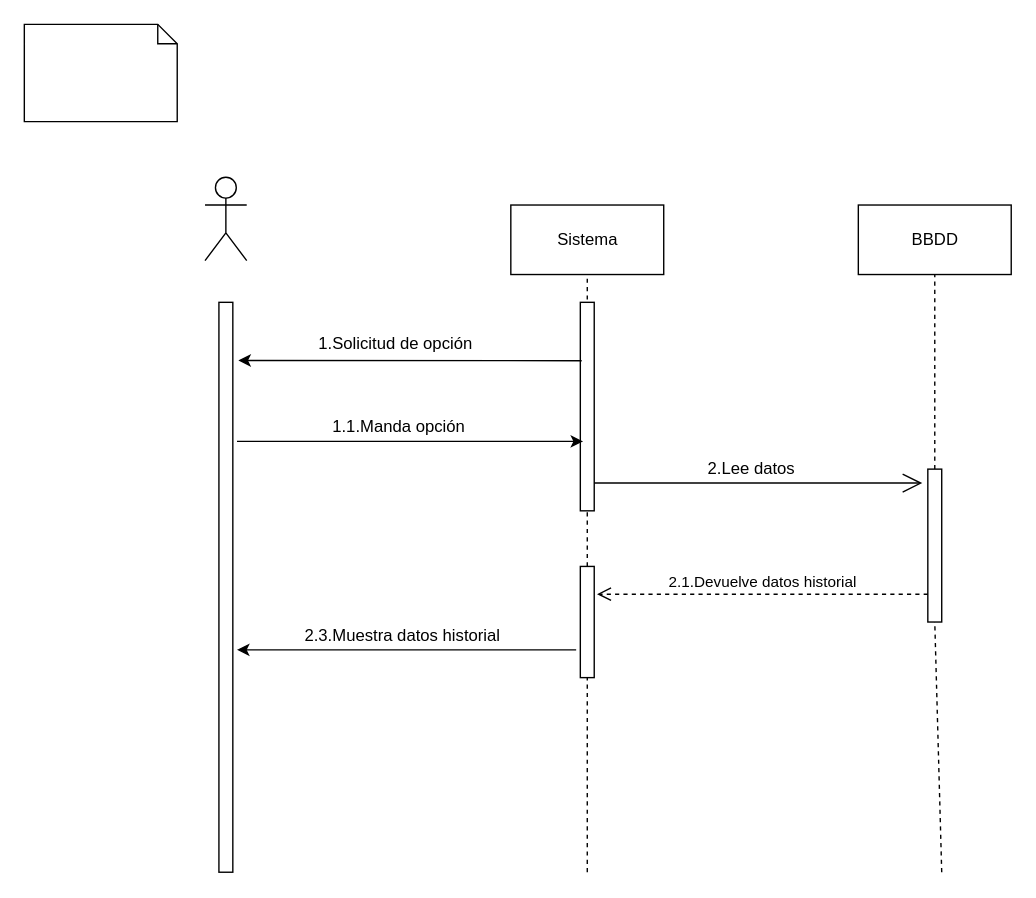
This 1036x898 diagram has some shape labels left out. The centre of each missing label's shape, as x and y in pixels:
"Actor" belongs at point (225, 218).
"Consultar Historial" belongs at point (100, 72).
